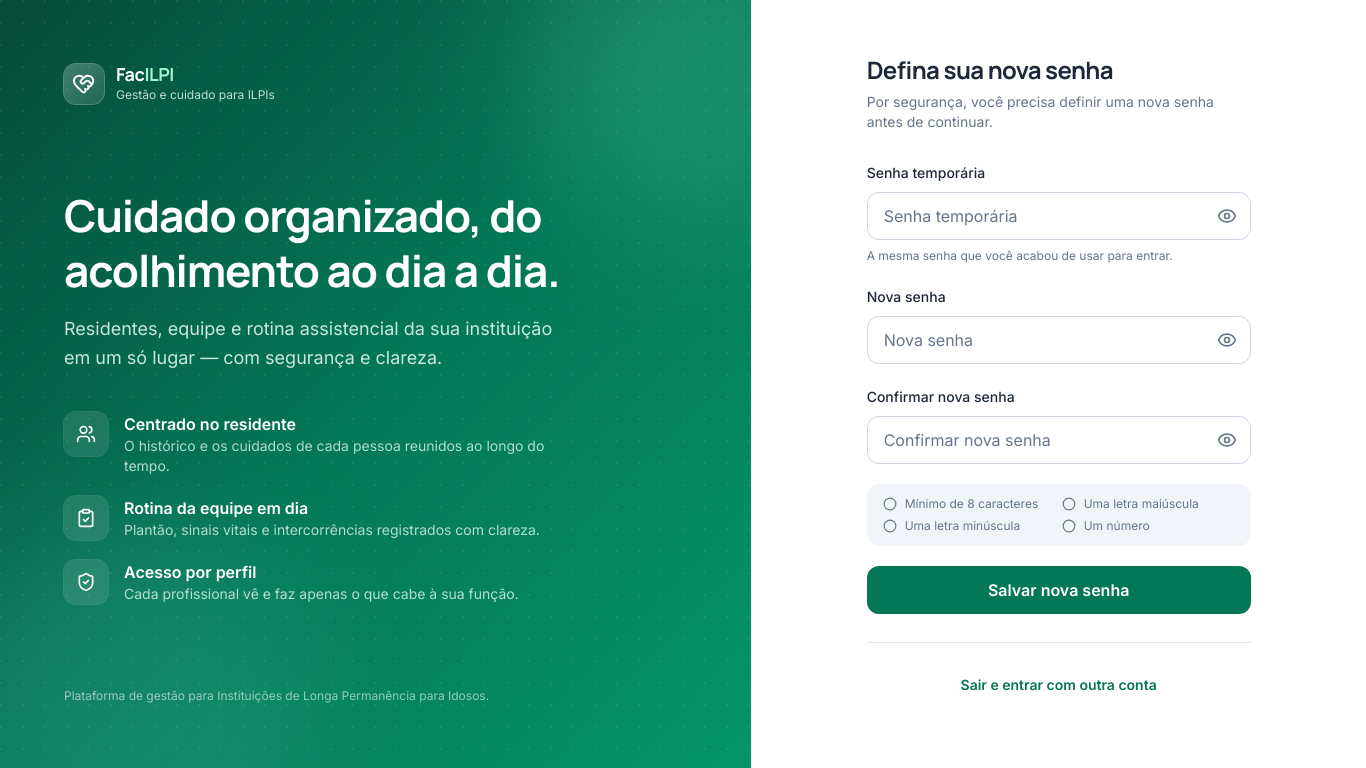
FirstAccess — troca obrigatória › 11. erro do backend permanece na tela
Step 1. Type "Temp1234" into the password field with placeholder "Senha temporária" → (1059, 216), box x1=867 y1=192 x2=1251 y2=240
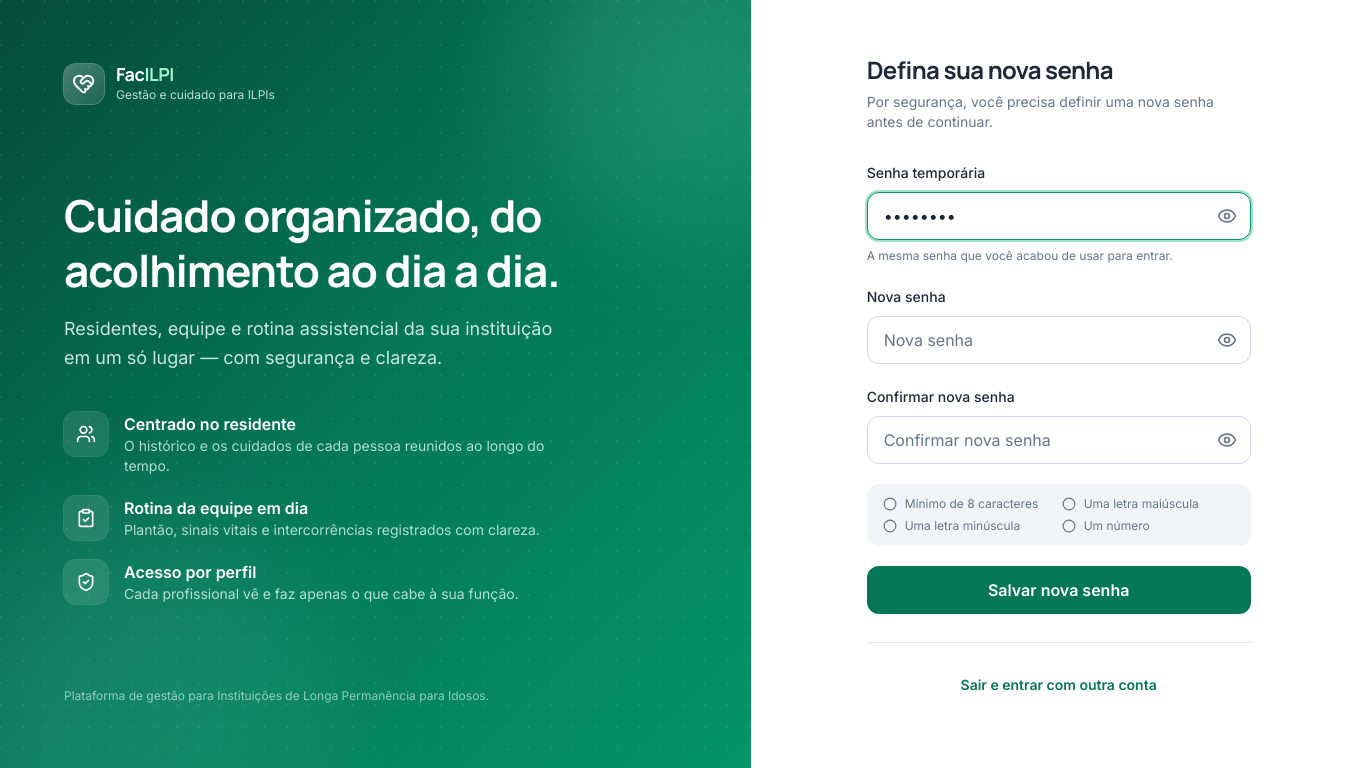
Step 2. Type "Nova1234" into the password field with placeholder "Nova senha" → (1059, 340), box x1=867 y1=316 x2=1251 y2=364
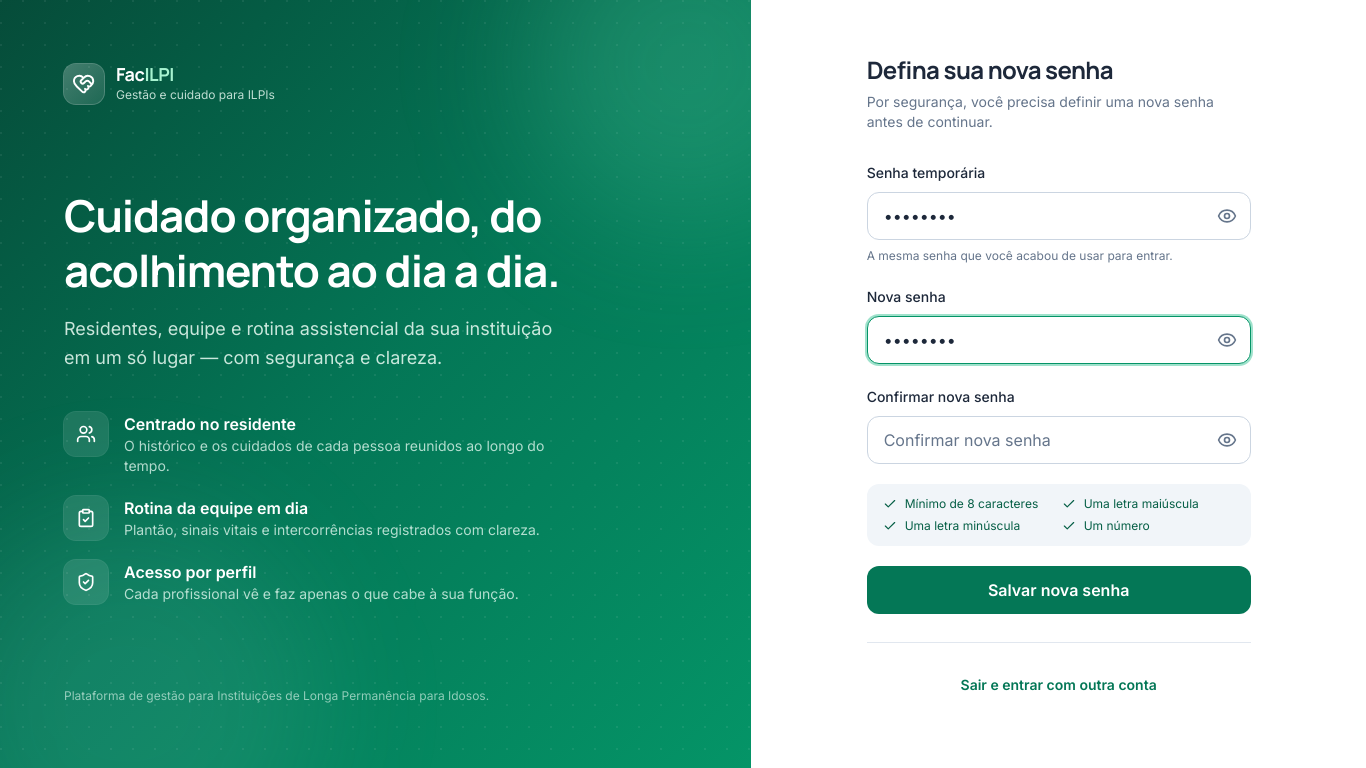
Step 3. Type "Nova1234" into the password field with placeholder "Confirmar nova senha" → (1059, 440), box x1=867 y1=416 x2=1251 y2=464
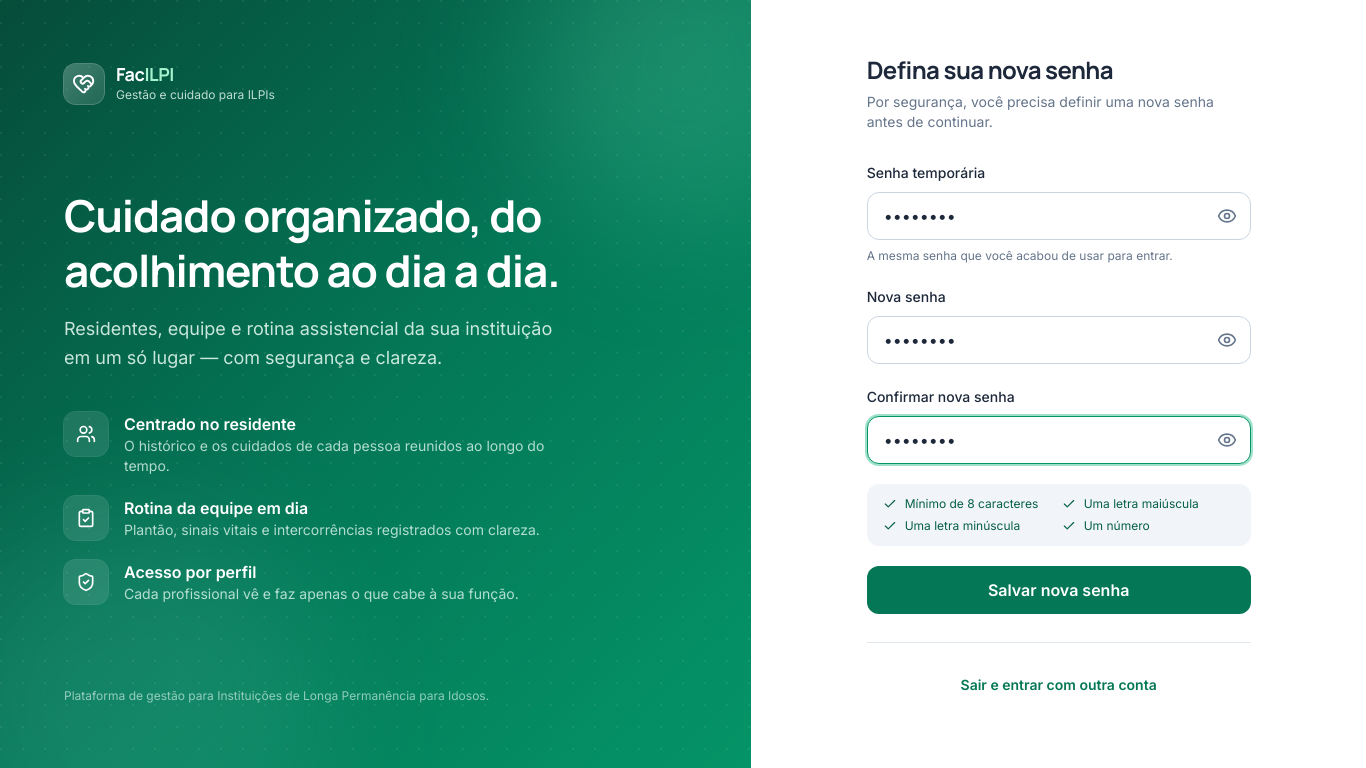
Step 4. Click the button "Salvar nova senha" → (1059, 590), box x1=867 y1=566 x2=1251 y2=614
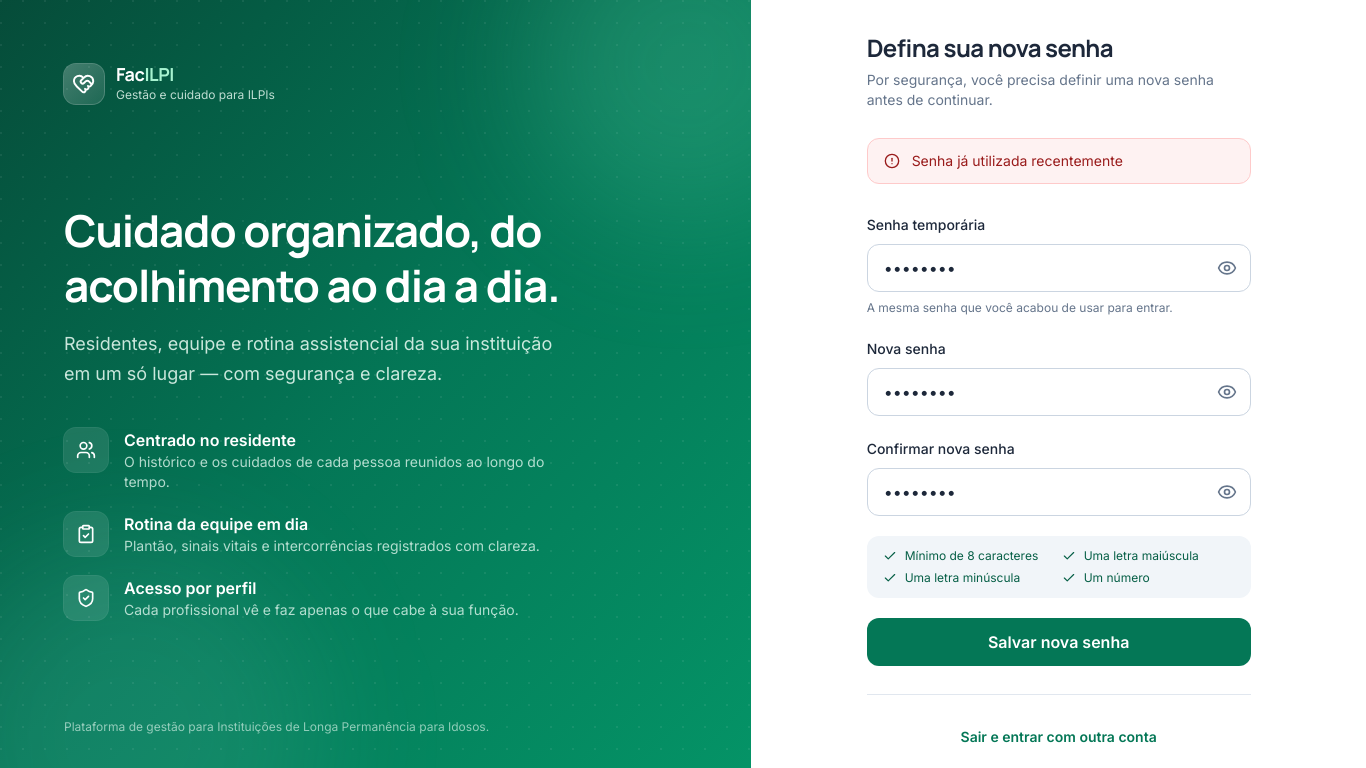
expect the heading "Defina sua nova senha" is shown: met, box x1=867 y1=31 x2=1113 y2=64
expect the text "Senha já utilizada recentemente" is shown: met, box x1=912 y1=151 x2=1123 y2=171
